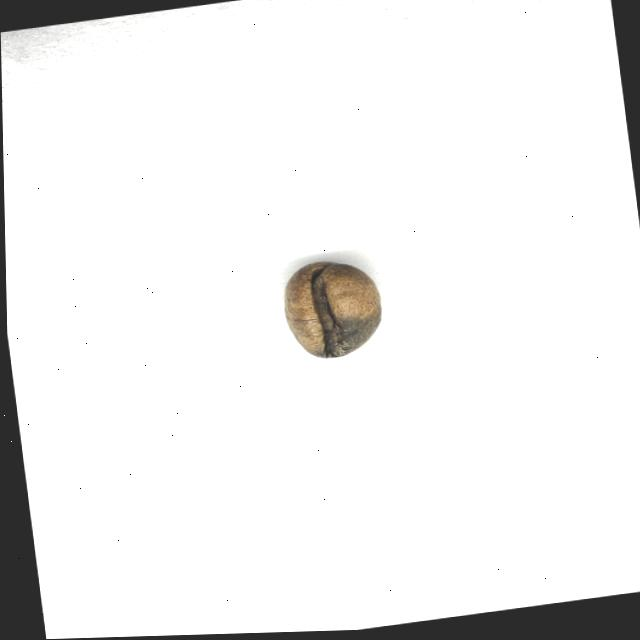Insect damage: (276, 256, 386, 367)
